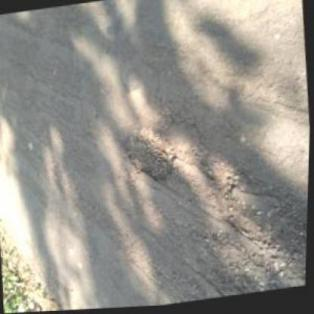Hueco: (120, 122, 181, 190)
